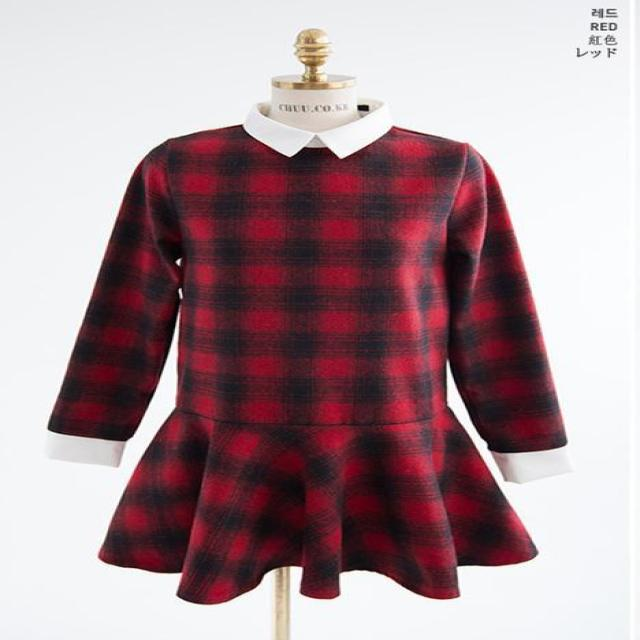long-sleeve-dress: (0, 118, 640, 633)
